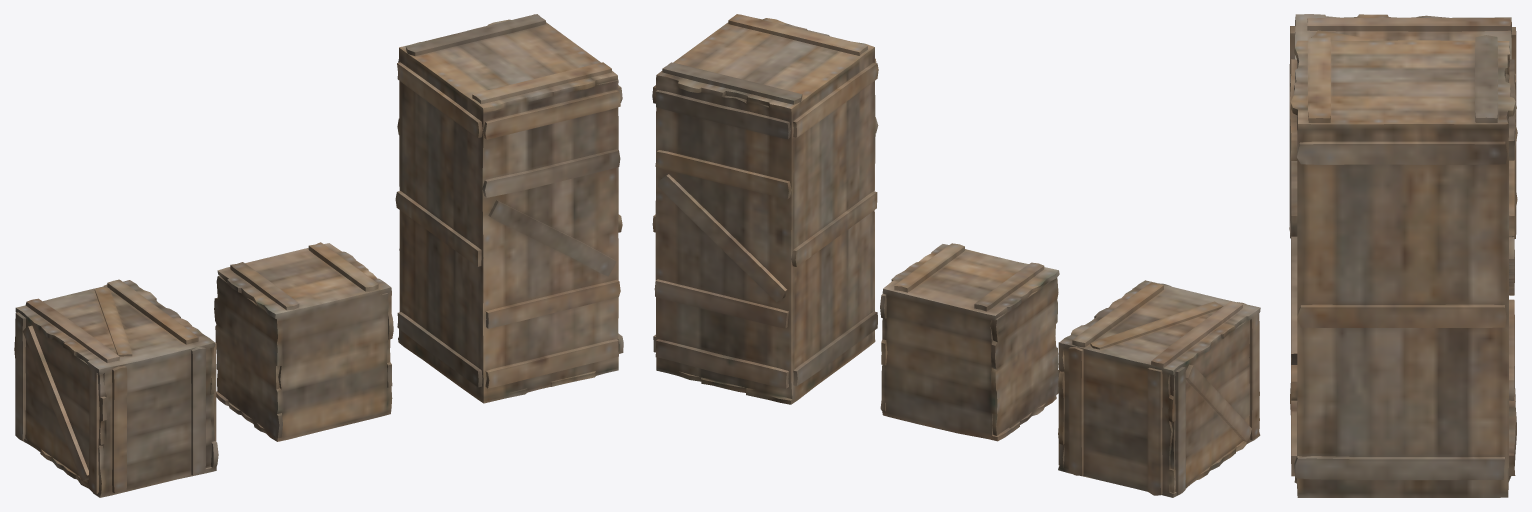
Rendered from wooden-boxes-ddecbe.glb.
3 renders of one model, left to right at view 1: azimuth 30°, elevation 25°; view 2: azimuth 150°, elevation 25°; view 3: azimuth 270°, elevation 25°, orthographic. The views are drawn at different scales.
Visible parts, largest first — view 1: PropMesh; view 2: PropMesh; view 3: PropMesh.
Part boxes in pixels (x1,y1,x2,y2): PropMesh: (14, 14, 623, 497); PropMesh: (652, 14, 1260, 497); PropMesh: (1289, 14, 1517, 497).
Bounding box in the file's own units: 2.01 × 1.1 × 0.5982.
Materials: 1 (1 with a texture image).
